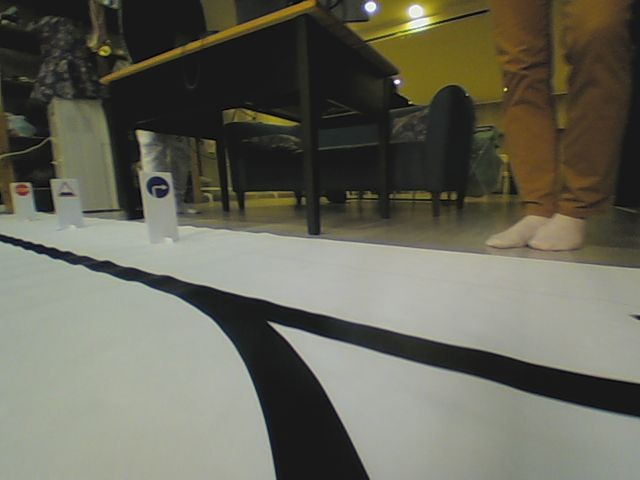Right: (145, 175, 170, 199)
